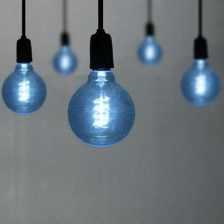light_bulb: (65, 59, 139, 149), (175, 48, 222, 108), (0, 58, 48, 116), (133, 29, 163, 67), (50, 38, 78, 76)
